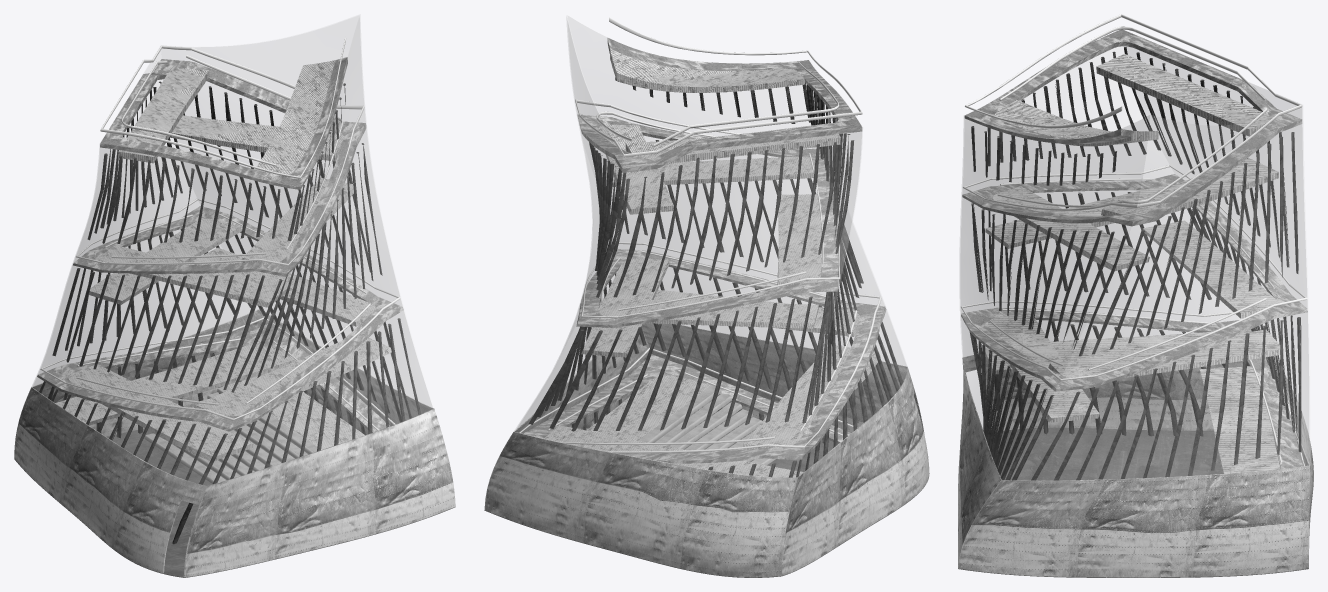
The model's file is 15-PODDIO_DARK_TWISTED_VERTICALE-Digital_Topographies_15.glb.
The picture shows the model from 3 angles, left to right: view 1: azimuth 30°, elevation 25°; view 2: azimuth 150°, elevation 25°; view 3: azimuth 270°, elevation 25°; orthographic projection. The views are drawn at different scales.
Parts seen in each view (by area): view 1: Marble Facade, Facade_Base, Slabs, Columns, Ramp\, Railings, Sitting Stair_GF, Ground Floor; view 2: Marble Facade, Facade_Base, Slabs, Columns, Ramp\, Railings, Sitting Stair_GF, Ground Floor; view 3: Marble Facade, Facade_Base, Columns, Slabs, Ramp\, Railings, Ground Floor.
Boxes of the visible parts, x1=… form: Marble Facade: x1=32, y1=14, x2=433, y2=485; Facade_Base: x1=14, y1=309, x2=455, y2=577; Slabs: x1=55, y1=60, x2=391, y2=460; Columns: x1=39, y1=81, x2=420, y2=544; Ramp\: x1=37, y1=57, x2=403, y2=432; Railings: x1=40, y1=37, x2=400, y2=430; Sitting Stair_GF: x1=144, y1=386, x2=317, y2=483; Ground Floor: x1=14, y1=428, x2=455, y2=577; Marble Facade: x1=514, y1=15, x2=907, y2=477; Facade_Base: x1=484, y1=323, x2=929, y2=577; Slabs: x1=544, y1=48, x2=880, y2=477; Columns: x1=528, y1=77, x2=903, y2=477; Ramp\: x1=523, y1=38, x2=886, y2=463; Railings: x1=519, y1=17, x2=881, y2=453; Sitting Stair_GF: x1=638, y1=385, x2=775, y2=465; Ground Floor: x1=484, y1=411, x2=929, y2=577; Marble Facade: x1=959, y1=46, x2=1310, y2=480; Facade_Base: x1=958, y1=354, x2=1313, y2=577; Columns: x1=969, y1=47, x2=1301, y2=480; Slabs: x1=985, y1=54, x2=1283, y2=473; Ramp\: x1=961, y1=29, x2=1307, y2=468; Railings: x1=960, y1=14, x2=1307, y2=466; Ground Floor: x1=958, y1=427, x2=1313, y2=577.
Bounding box in the file's own units: 31.68 × 45.54 × 31.68.
8 materials, 6 textured.
